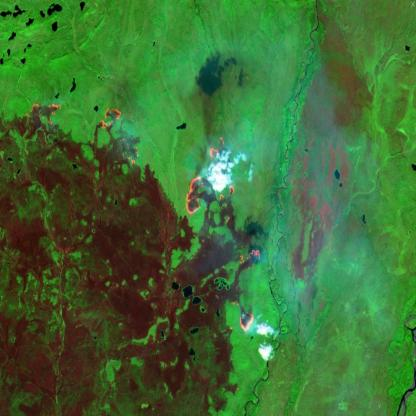fire: (179, 132, 240, 228), (95, 96, 145, 174), (21, 96, 65, 134), (232, 300, 260, 340), (238, 245, 266, 276)
